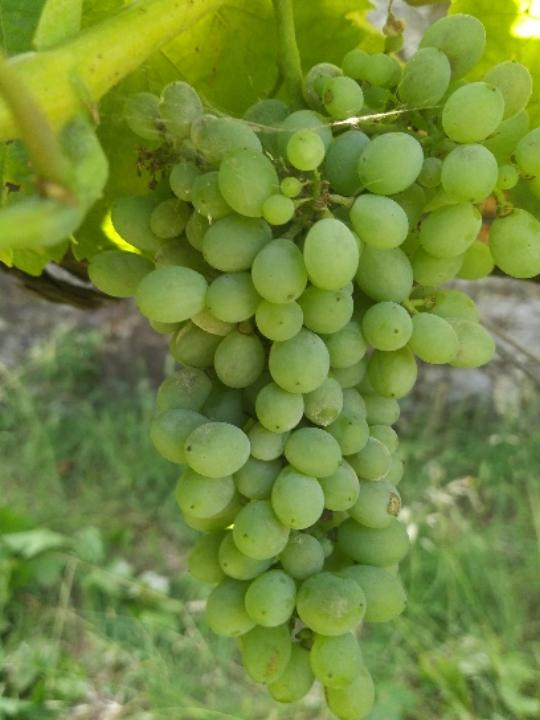grape: (77, 1, 540, 720)
